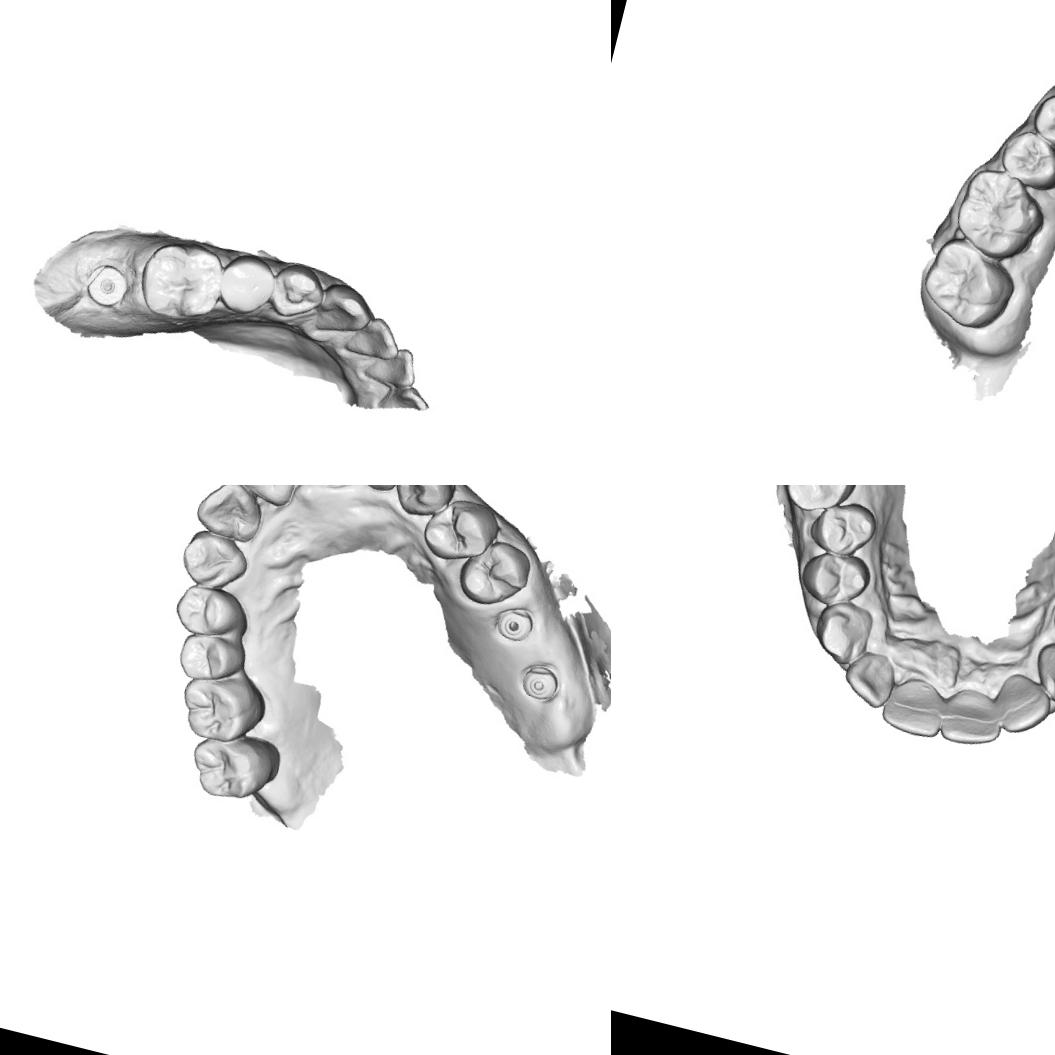canine: (175, 526, 254, 594), (807, 594, 876, 670), (308, 276, 376, 349), (390, 485, 457, 522), (1026, 633, 1055, 710)
implant: (511, 654, 568, 714), (84, 258, 129, 306), (492, 600, 530, 642)
incisor: (934, 681, 1008, 753), (877, 671, 950, 742), (988, 668, 1055, 741), (189, 485, 269, 543), (837, 646, 899, 711), (342, 308, 406, 369), (359, 337, 423, 395), (214, 485, 304, 509)
molar: (945, 162, 1054, 268), (914, 233, 1023, 337), (132, 234, 230, 328), (183, 724, 281, 810), (170, 668, 258, 750), (775, 485, 866, 521)
premolar: (416, 488, 504, 570), (454, 534, 536, 614), (794, 544, 875, 614), (804, 493, 880, 562), (173, 628, 250, 690), (993, 125, 1055, 196), (215, 247, 278, 314), (265, 260, 328, 325), (174, 584, 238, 638), (1025, 85, 1055, 158)
